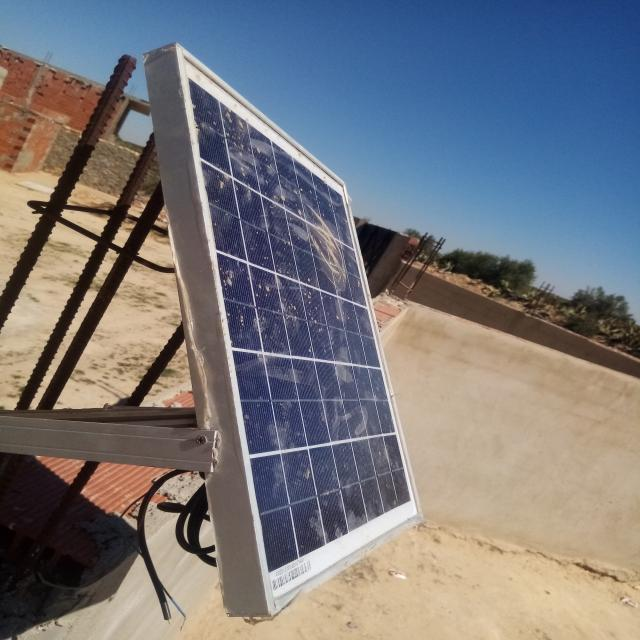faulty: (181, 49, 423, 611)
